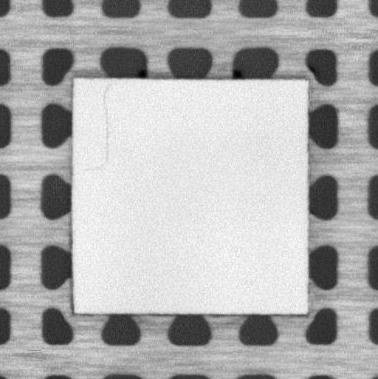DIE_CRACK: (81, 84, 116, 174)
